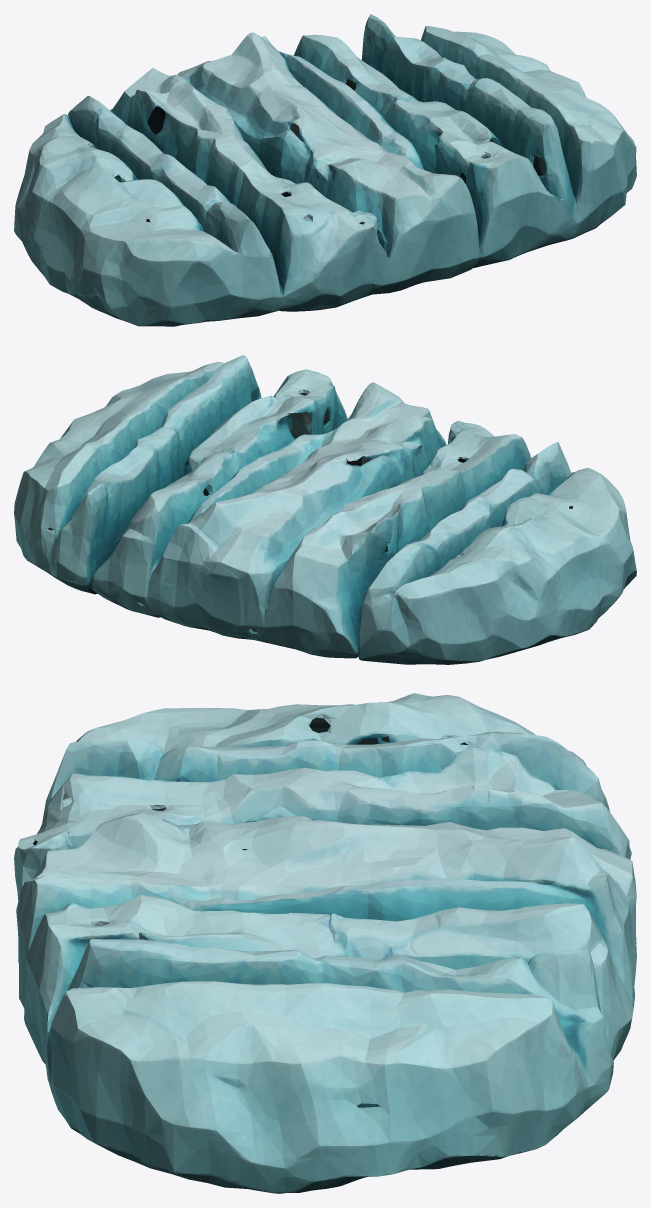
3 views of the same model, one above another, from view 1: azimuth 30°, elevation 25°; view 2: azimuth 150°, elevation 25°; view 3: azimuth 270°, elevation 25° (orthographic). The views are drawn at different scales.
Parts seen in each view (by area): view 1: world; view 2: world; view 3: world.
Part boxes in pixels (bbox=[...]): world: bbox=[14, 14, 636, 326]; world: bbox=[14, 355, 636, 664]; world: bbox=[14, 693, 636, 1193].
Bounding box in the file's own units: 0.9998 × 0.2168 × 0.6686.
Materials: 2 (1 with a texture image).
